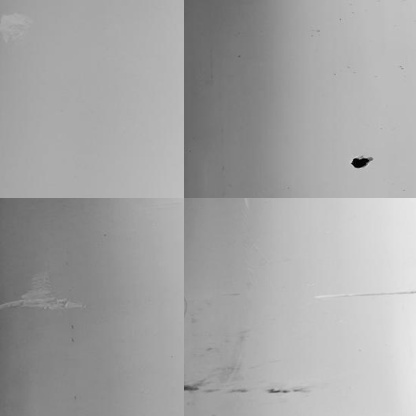kongdong: (347, 151, 376, 171)
sunshang: (9, 263, 82, 319), (314, 286, 412, 304), (1, 13, 34, 44)
